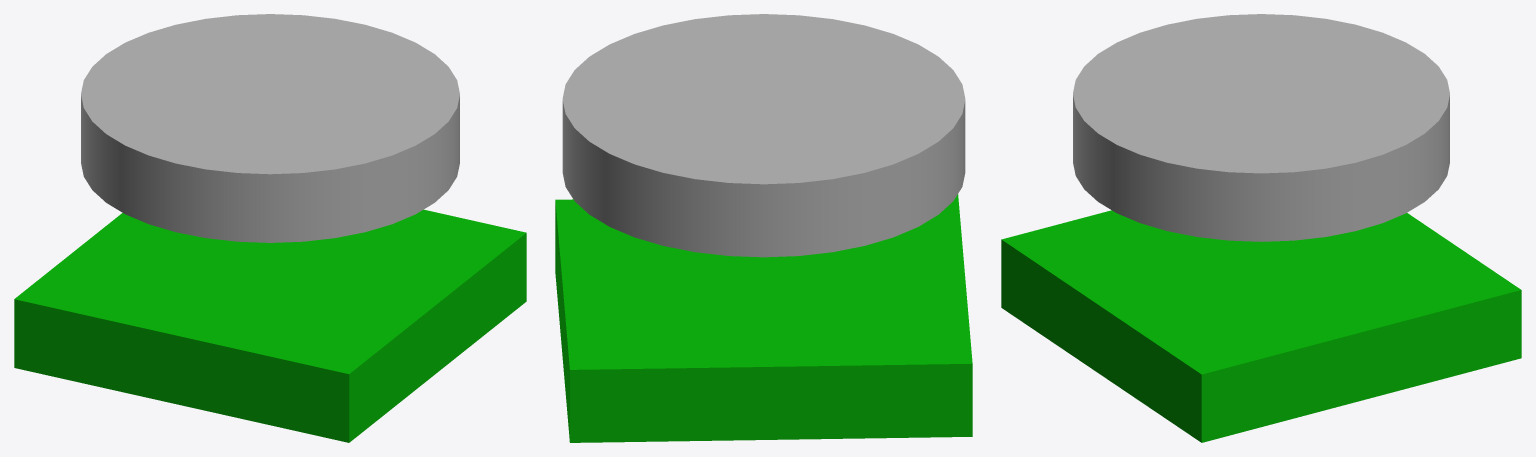
Rendered from turntable.glb.
3 renders of one model, left to right at view 1: azimuth 30°, elevation 25°; view 2: azimuth 150°, elevation 25°; view 3: azimuth 270°, elevation 25°, orthographic. The views are drawn at different scales.
Bounding box in the file's own units: 1.38 × 0.7 × 1.38.
